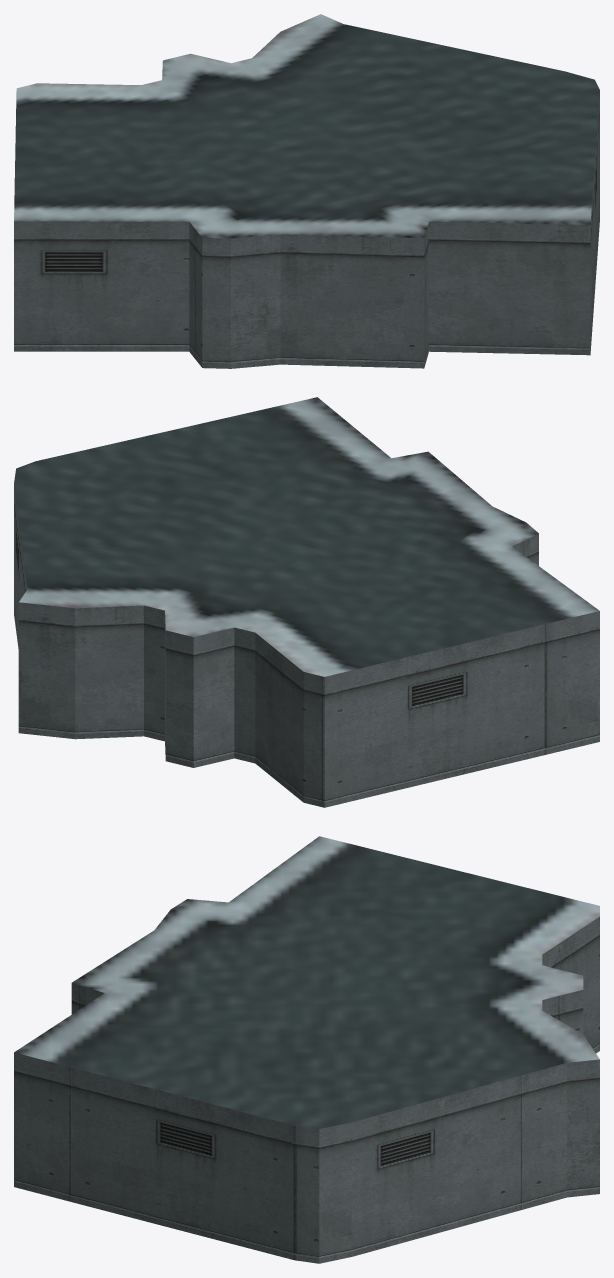
File: medium_roof38.glb
3 renders of one model, top to bottom at view 1: azimuth 30°, elevation 25°; view 2: azimuth 150°, elevation 25°; view 3: azimuth 270°, elevation 25°, orthographic. The views are drawn at different scales.
Parts seen in each view (by area): view 1: buildings/saxarba/medium/medium_roof38; view 2: buildings/saxarba/medium/medium_roof38; view 3: buildings/saxarba/medium/medium_roof38.
Part boxes in pixels (x1,y1,x2,y2): buildings/saxarba/medium/medium_roof38: (14, 14, 599, 368); buildings/saxarba/medium/medium_roof38: (14, 397, 599, 807); buildings/saxarba/medium/medium_roof38: (14, 836, 599, 1263).
Bounding box in the file's own units: 84 × 18 × 71.
